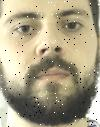without_mask: (2, 2, 100, 127)
